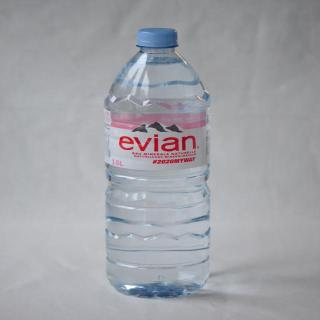Plastic-bottle: (95, 28, 221, 300)
